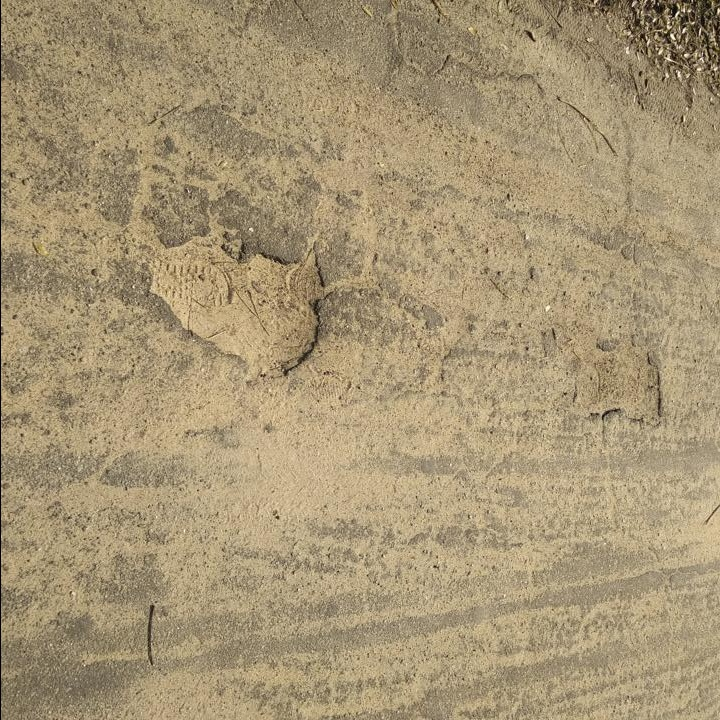pothole: (144, 222, 335, 382), (570, 331, 668, 428)
